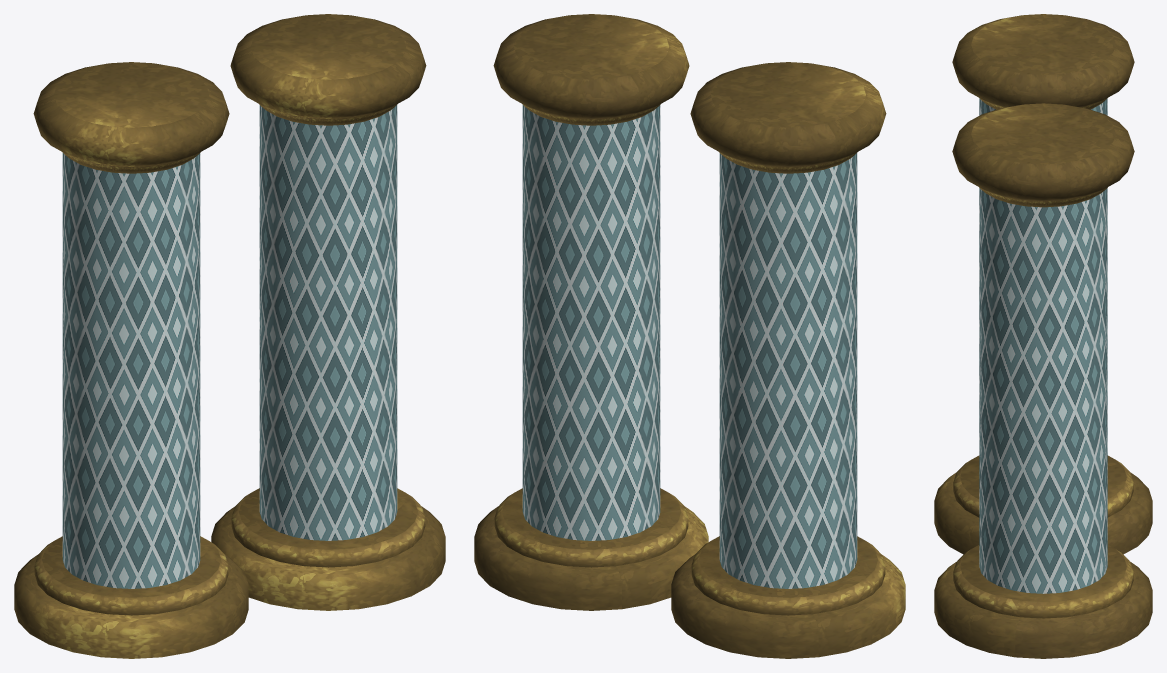
The model's file is DI_010_pillar_var01_02.glb.
3 renders of one model, left to right at view 1: azimuth 30°, elevation 25°; view 2: azimuth 150°, elevation 25°; view 3: azimuth 270°, elevation 25°, orthographic. The views are drawn at different scales.
Visible parts, largest first — view 1: Pillar.004, Pillar.002, Stands.002, Stands.001; view 2: Pillar.004, Pillar.002, Stands.002, Stands.001; view 3: Pillar.004, Stands.001, Stands.002.
Part boxes in pixels (x1,y1,x2,y2): Pillar.004: (259,105,397,540); Pillar.002: (62,153,200,588); Stands.002: (14,62,248,658); Stands.001: (211,14,445,610); Pillar.004: (522,105,660,540); Pillar.002: (719,153,857,588); Stands.002: (671,62,905,658); Stands.001: (474,14,708,610); Pillar.004: (979,188,1107,593); Stands.001: (934,103,1152,658); Stands.002: (934,14,1152,554).
Bounding box in the file's own units: 1.52 × 1.87 × 0.7735.
2 materials, 2 textured.
